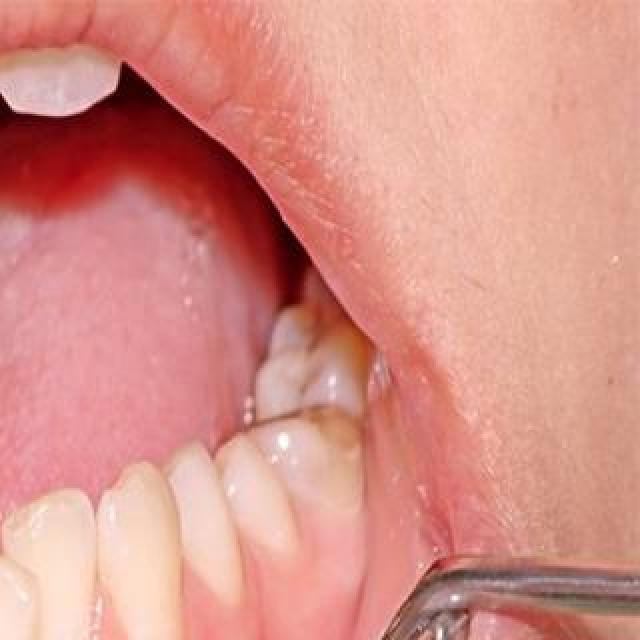cavities: (232, 390, 366, 488)
maligned: (0, 552, 48, 640)
